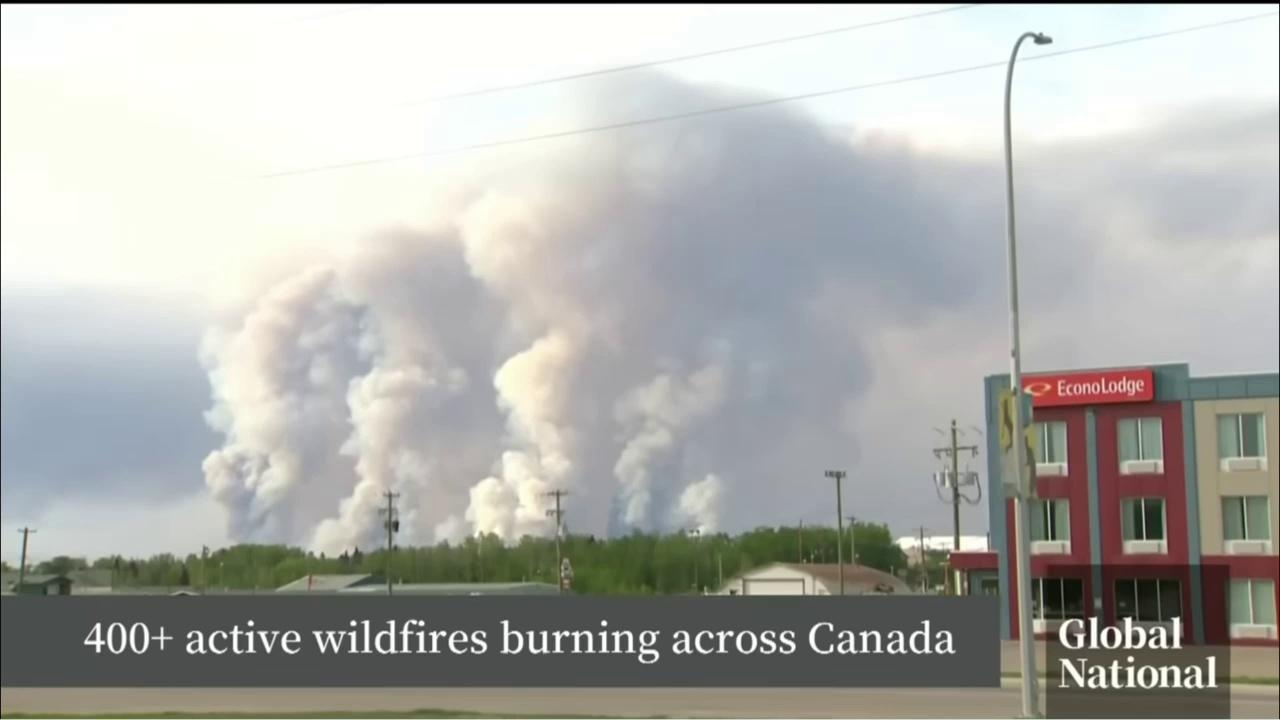smoke: (194, 59, 1278, 561)
